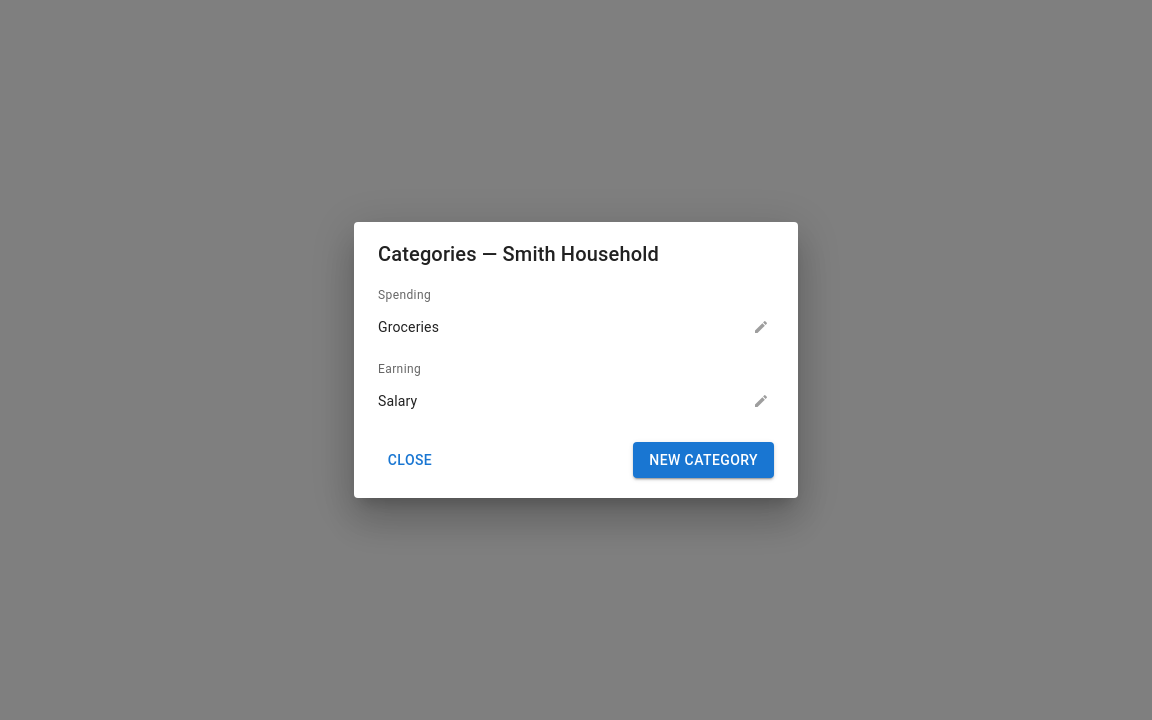
CategoryManagementDialog create › shows the newly created category in the list after returning from create mode
The image size is (1152, 720).
Expected: the text "Groceries" is shown, [378,317,439,337]
Click the button "New category" at (704, 460), box [633,442,774,478]
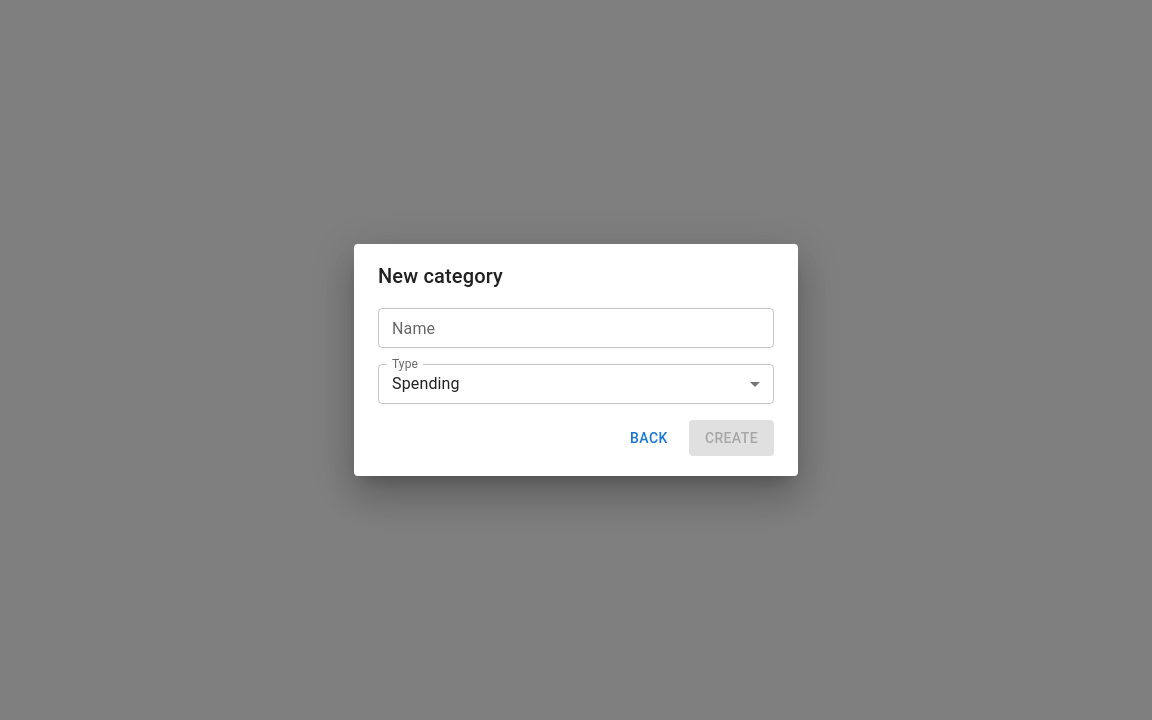
Type "Utilities" into the field labelled "Name" at (576, 328), box [378,308,774,348]
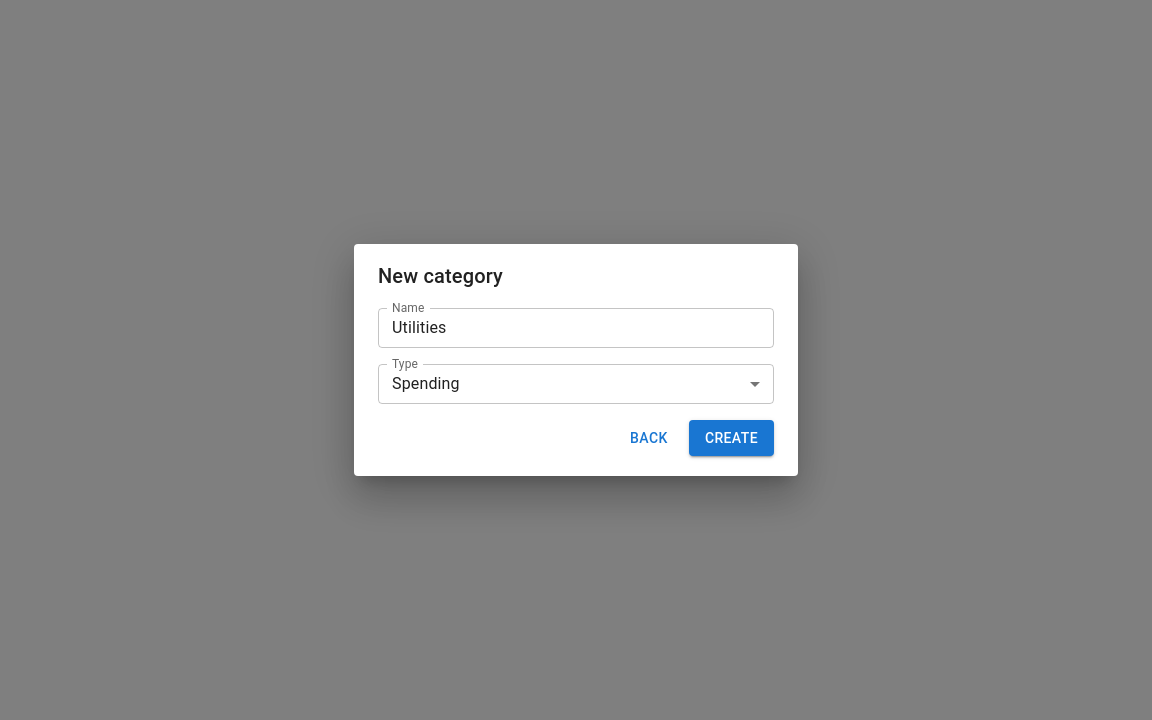
Click the button "Create" at (731, 438), box [689,420,774,456]
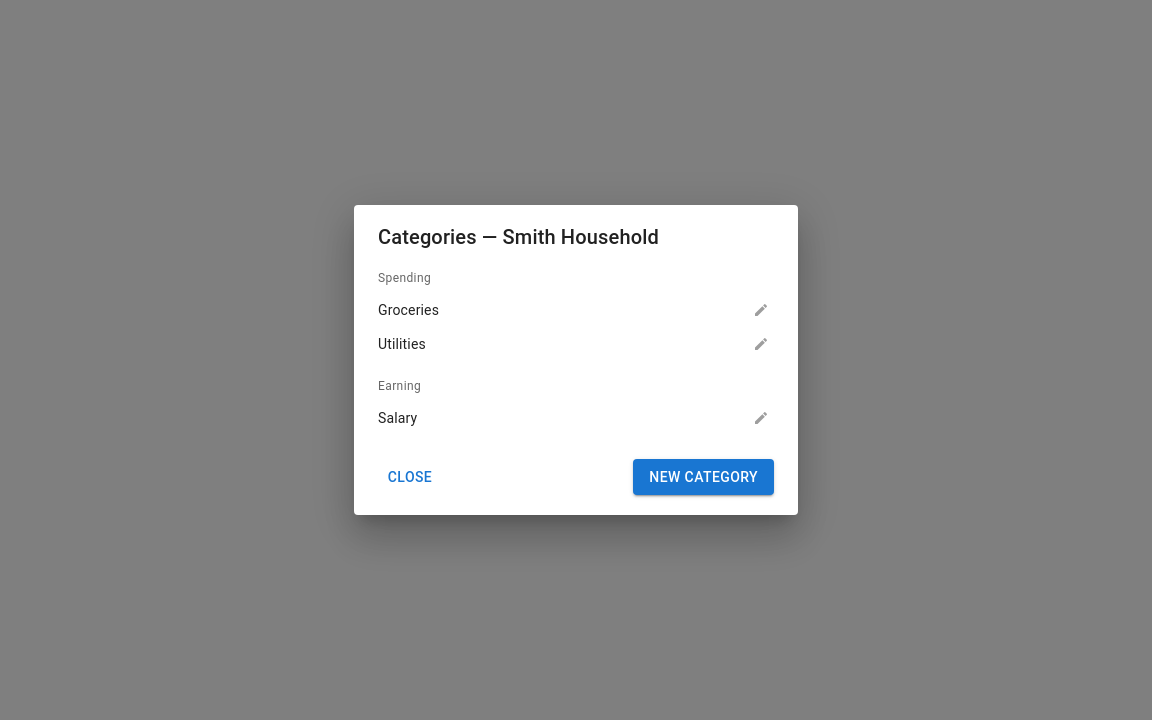
Expected: the text "Utilities" is shown, [378,334,426,354]
